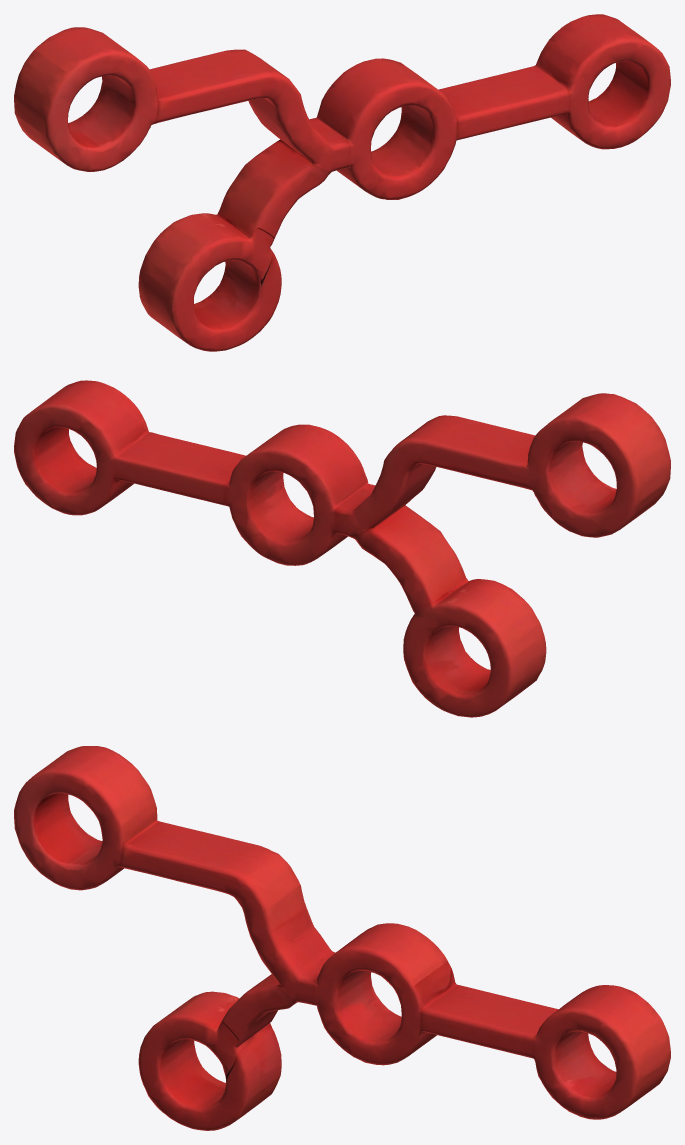
3 views of the same model, one above another, from view 1: azimuth 30°, elevation 25°; view 2: azimuth 150°, elevation 25°; view 3: azimuth 330°, elevation 25° (orthographic).
Bounding box in the file's own units: 2 × 1.01 × 0.2013.
1 material, 1 textured.
